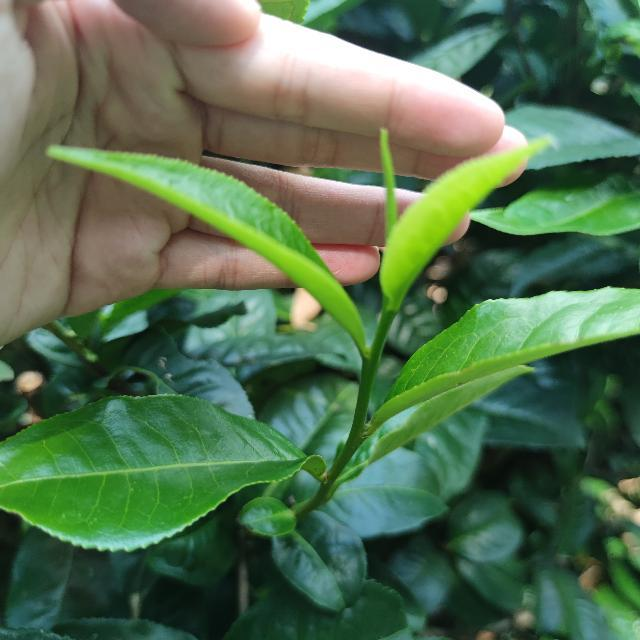Stem: (357, 359, 379, 409)
